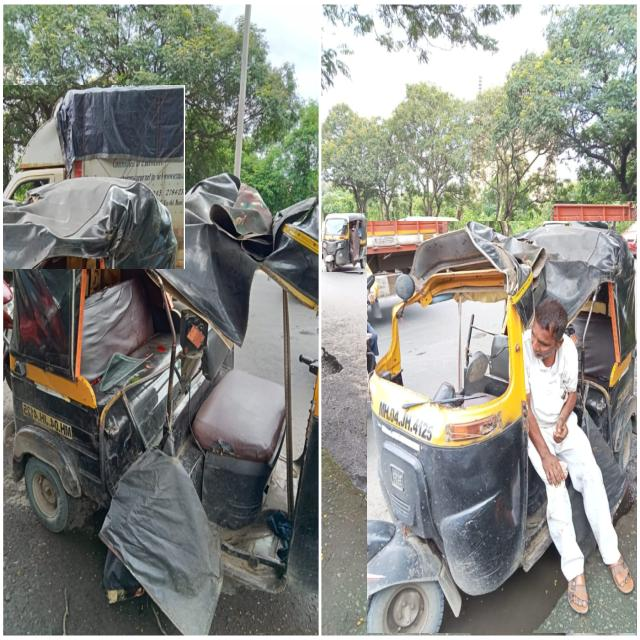accident: (10, 173, 319, 634), (367, 222, 636, 633)
autorickshaw: (322, 213, 368, 272)
truck: (3, 85, 184, 269), (554, 201, 636, 273)
